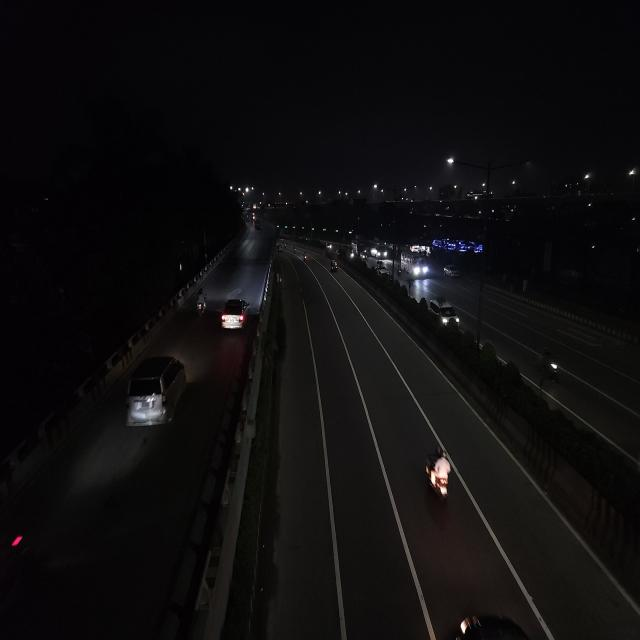bus: (401, 251, 429, 280)
car: (123, 350, 190, 434), (426, 295, 462, 331), (219, 296, 251, 333), (442, 263, 461, 282), (375, 262, 389, 277)
cng: (329, 258, 339, 274)
motorcycle: (420, 447, 456, 508), (538, 345, 563, 384), (193, 288, 209, 319), (329, 258, 339, 274), (301, 252, 309, 265), (291, 244, 297, 253)
